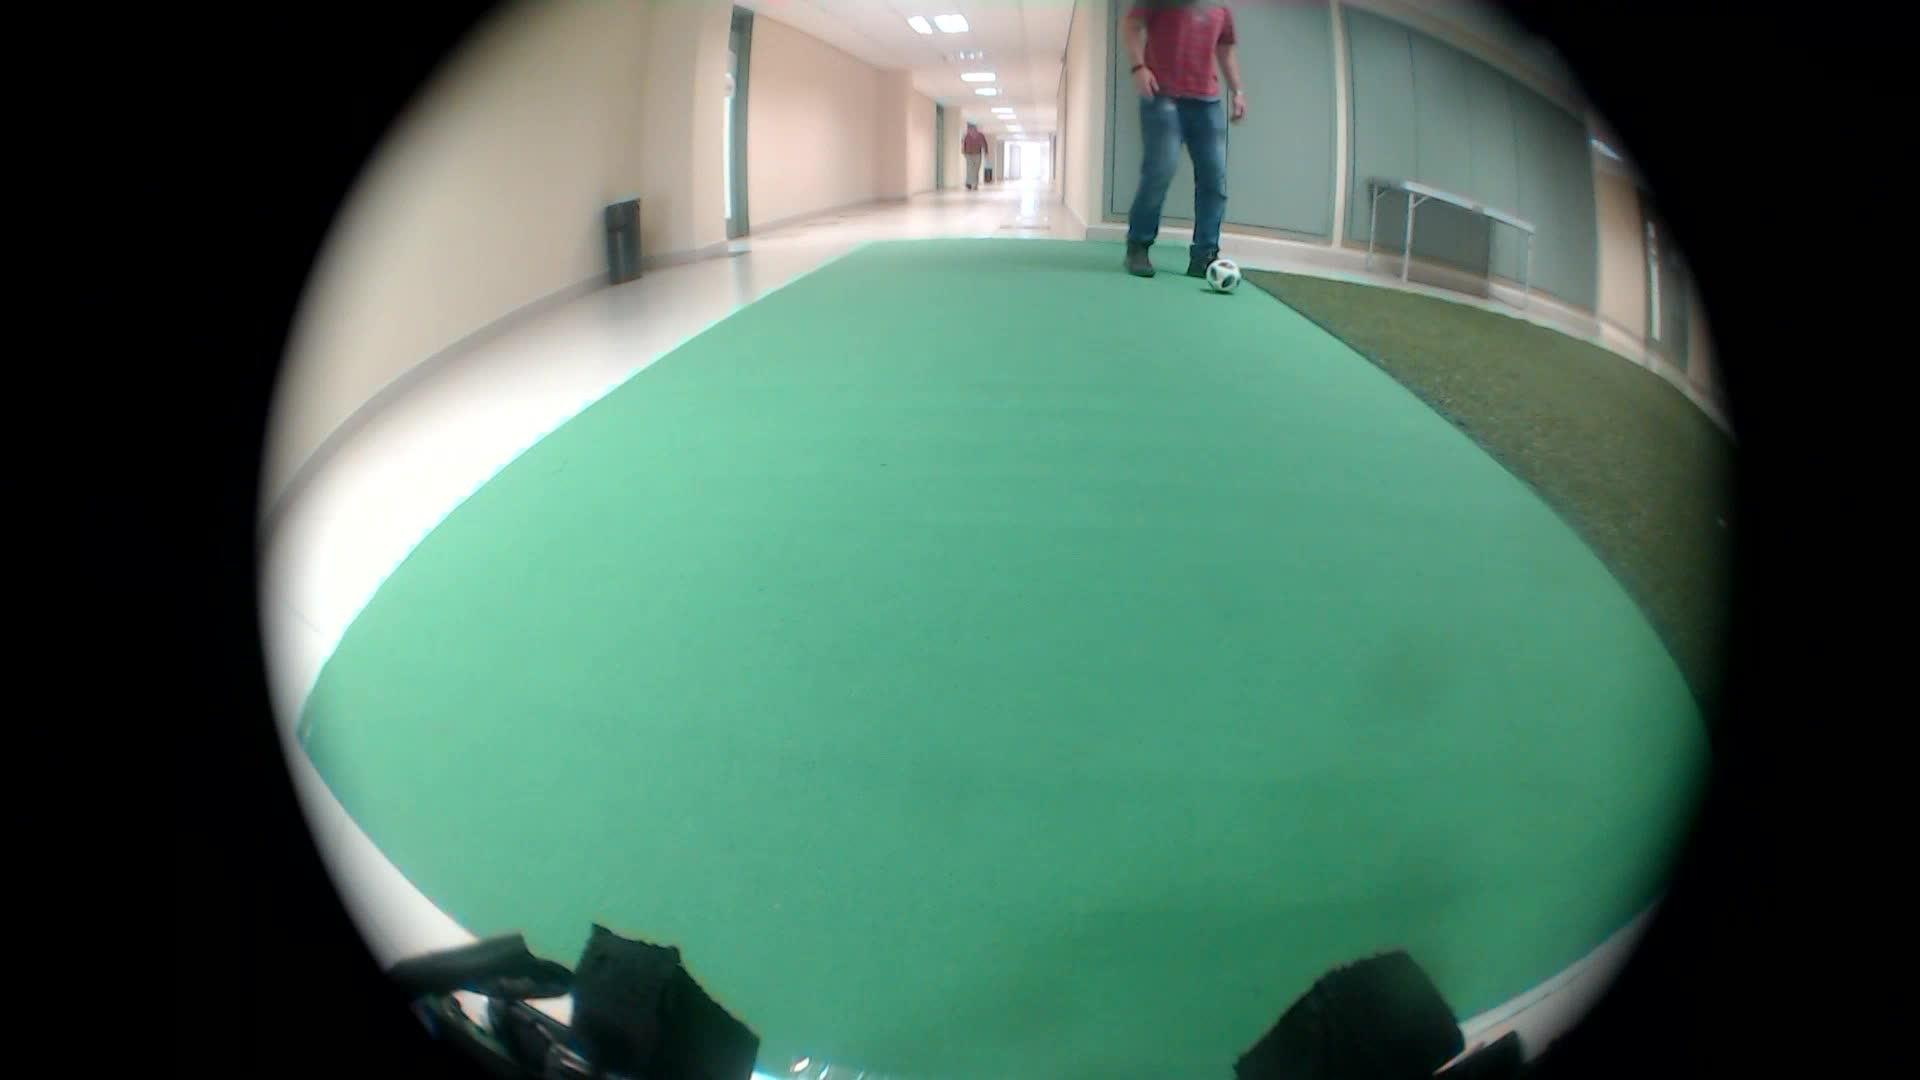ball: (1205, 251, 1247, 302)
